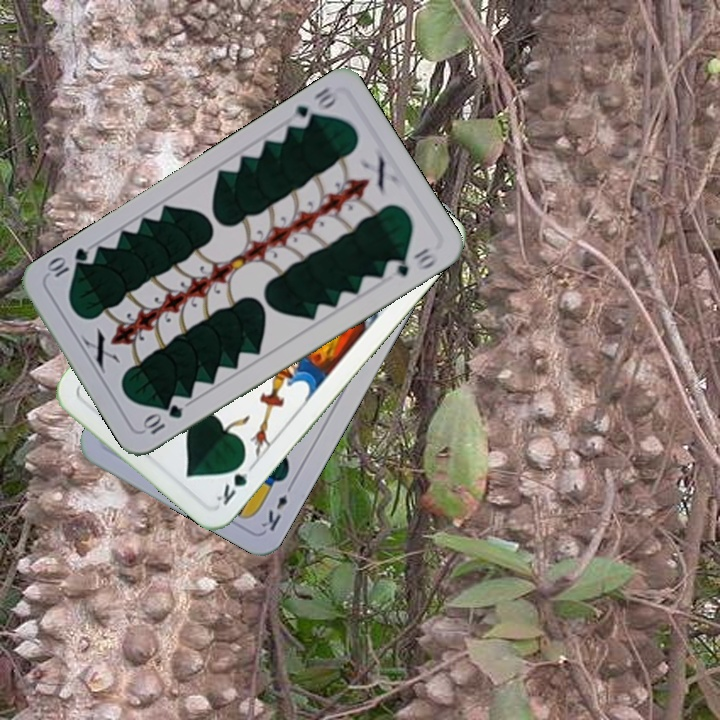EK: (257, 478, 297, 534)
G10: (285, 83, 341, 132), (139, 400, 186, 437)
GK: (212, 454, 258, 508)
